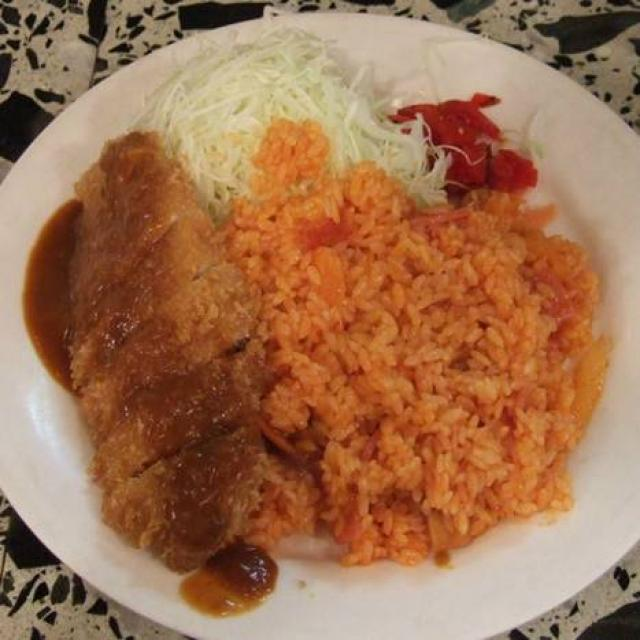Rice: (240, 199, 606, 563)
